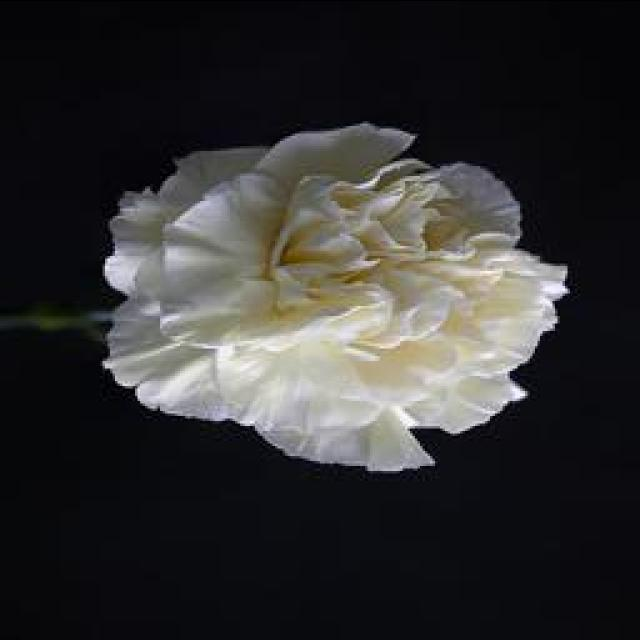carnation: (100, 106, 576, 496)
